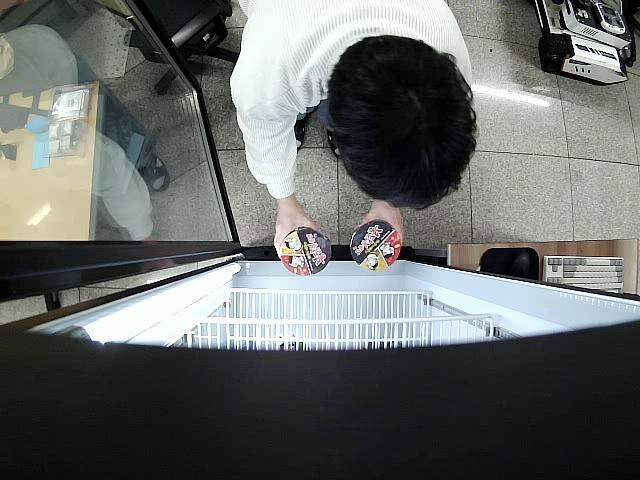00_hand: (273, 195, 319, 261), (356, 199, 406, 251)
07_buldak_L: (278, 225, 332, 277), (349, 223, 403, 275)
